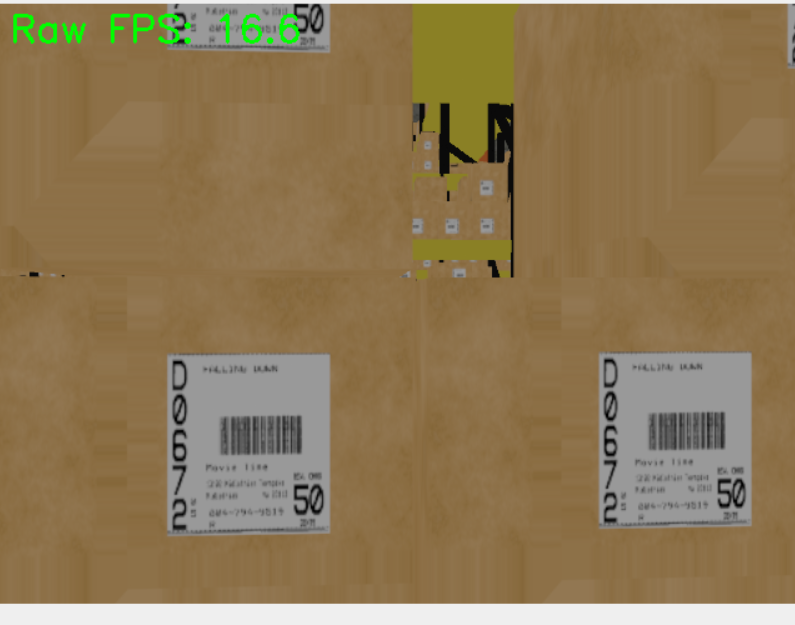barcode: (166, 353, 332, 534), (597, 351, 753, 528)
